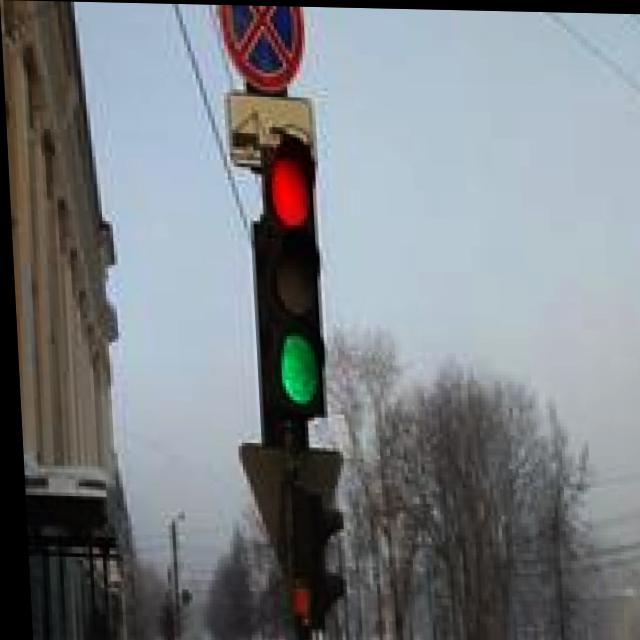green_light: (236, 325, 400, 430)
red_light: (211, 149, 350, 224)
